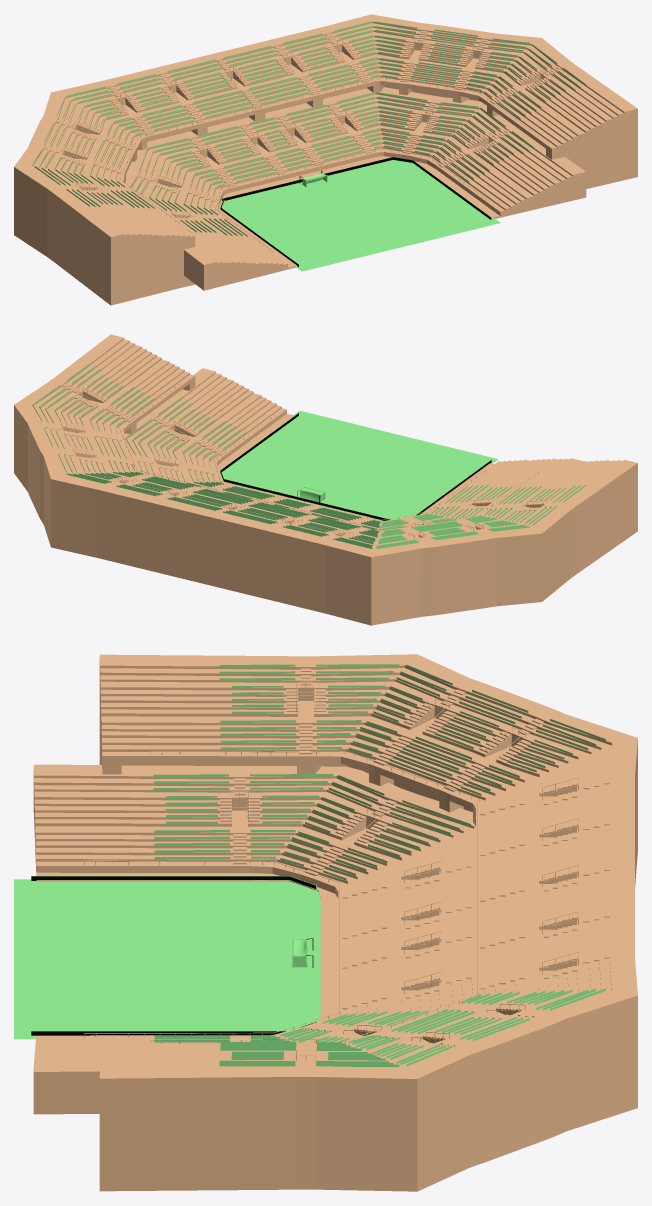
The model's file is football stadium and pitch.FBX.
The picture shows the model from 3 angles, top to bottom: view 1: azimuth 30°, elevation 25°; view 2: azimuth 150°, elevation 25°; view 3: azimuth 270°, elevation 25°; orthographic projection. The views are drawn at different scales.
Parts seen in each view (by area): view 1: stadium, seats alpha; view 2: stadium, seats alpha; view 3: stadium, seats alpha.
Part boxes in pixels (x1,y1,x2,y2): stadium: (14,14,637,305); seats alpha: (33,21,585,271); stadium: (14,334,637,625); seats alpha: (33,363,585,549); stadium: (33,654,637,1191); seats alpha: (14,664,605,1066).
Bounding box in the file's own units: 7395 × 939 × 4592.
